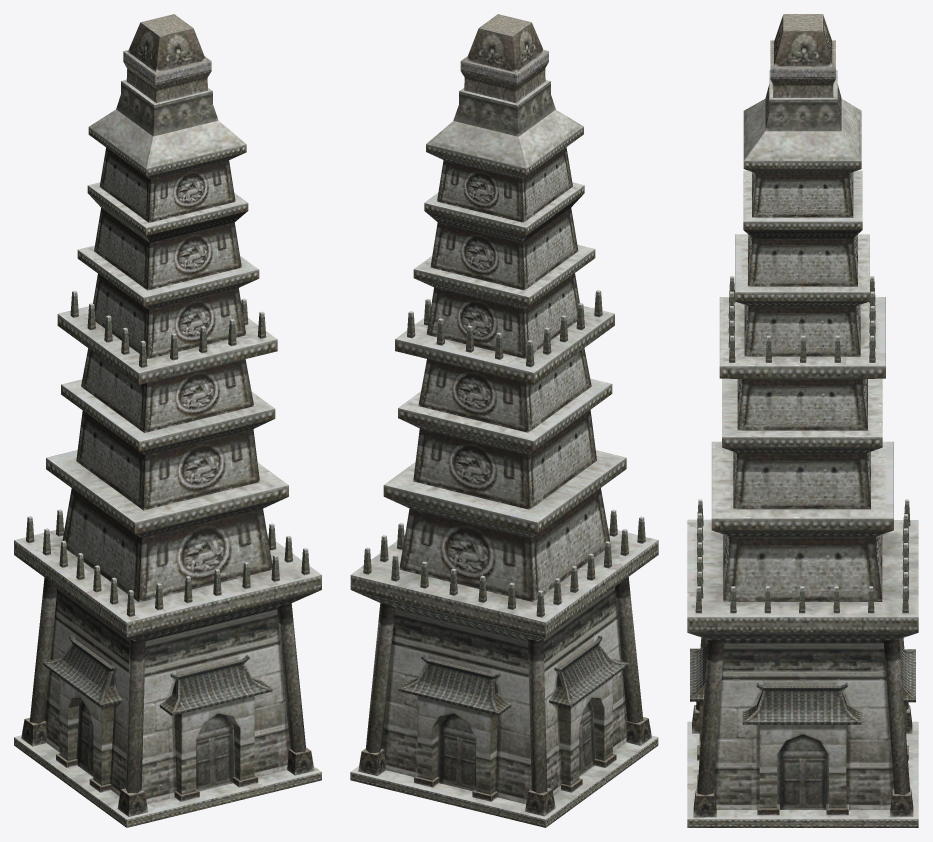
The model's file is c1-031-tower.glb.
3 renders of one model, left to right at view 1: azimuth 30°, elevation 25°; view 2: azimuth 150°, elevation 25°; view 3: azimuth 270°, elevation 25°, orthographic. The views are drawn at different scales.
Visible parts, largest first — view 1: tower16; view 2: tower16; view 3: tower16.
Part boxes in pixels (left/top/right/bottom): tower16: left=14, top=14, right=321, bottom=827; tower16: left=350, top=14, right=658, bottom=827; tower16: left=687, top=14, right=918, bottom=827.
Size of the model in its own units: 9.27 by 33.49 by 9.27.
Materials: 1 (1 with a texture image).
